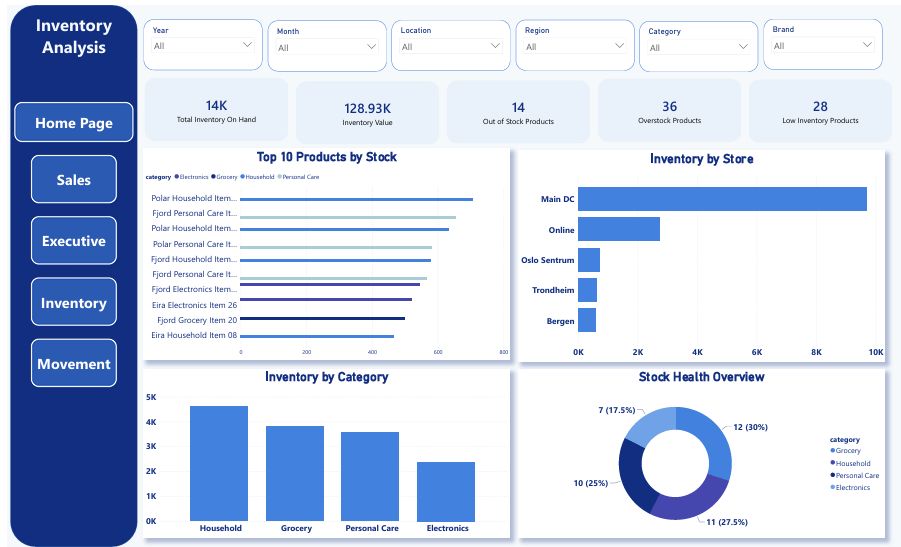

This screenshot's page, from the dashboard's own definition file:
{"tool":"powerbi","page":{"name":"Inventory Analysis ","canvas":[2150,1300],"ordinal":3},"visuals":[{"type":"shape","box":[7.5,0,305,1300],"z":0},{"type":"group","id":"g1","title":"Group 1","box":[327.5,32.5,1772.5,127],"z":1000},{"type":"group","id":"g2","title":"Group 2","box":[314,158,1828,194],"z":2000},{"type":"clusteredBarChart","title":"Top 10 Products by Stock","fields":{"Category":["product_master.product_name"],"Series":["product_master.category"],"Y":["Measures_Table.Total Inventory On Hand"]},"box":[327.5,345,880,507.5],"z":3000},{"type":"clusteredColumnChart","title":"Inventory by Category","fields":{"Category":["product_master.category"],"Y":["Measures_Table.Total Inventory On Hand"]},"box":[327.5,875,880,405],"z":4000},{"type":"slicer","fields":{"Values":["location_master.region"]},"box":[1220,34.6,285,122],"z":5000,"group":"g1"},{"type":"clusteredBarChart","title":"Inventory by Store","fields":{"Category":["location_master.location_name"],"Y":["Measures_Table.Total Inventory On Hand"]},"box":[1227.5,350,897.5,507.5],"z":5000},{"type":"slicer","fields":{"Values":["location_master.location_type"]},"box":[922.5,35.4,285,122],"z":6000,"group":"g1"},{"type":"donutChart","title":"Stock Health Overview","fields":{"Category":["product_master.category"],"Y":["Count(product_master.sku)"]},"box":[1227.5,875,897.5,405],"z":6000},{"type":"slicer","fields":{"Values":["product_master.category"]},"box":[1517.5,37.5,285,122],"z":7000,"group":"g1"},{"type":"actionButton","box":[7.5,222.5,305,115],"z":7000,"group":"g3"},{"type":"slicer","fields":{"Values":["product_master.brand"]},"box":[1815,32.5,285,122],"z":8000,"group":"g1"},{"type":"actionButton","box":[47.5,349.4,225,135],"z":8000,"group":"g3"},{"type":"slicer","fields":{"Values":["dim_date.Date.Variation.Date Hierarchy.Year"]},"box":[327.5,33.3,285,122.5],"z":9000,"group":"g1"},{"type":"actionButton","box":[47.5,643.1,225,135],"z":9000,"group":"g3"},{"type":"slicer","fields":{"Values":["dim_date.Date.Variation.Date Hierarchy.Month"]},"box":[625,36.2,285,122.5],"z":10000,"group":"g1"},{"type":"actionButton","box":[47.5,790,225,135],"z":10000,"group":"g3"},{"type":"cardVisual","fields":{"Data":["Measures_Table.Total Inventory On Hand"]},"box":[314,158,377.5,185],"z":11000,"group":"g2"},{"type":"actionButton","box":[47.5,496.3,225,135],"z":11000,"group":"g3"},{"type":"group","id":"g3","title":"Group 3","box":[7.5,222.5,305,702.5],"z":11001},{"type":"cardVisual","fields":{"Data":["Measures_Table.Inventory Value"]},"box":[676.9,166,377,185],"z":12000,"group":"g2"},{"type":"cardVisual","fields":{"Data":["Measures_Table.Out of Stock Products"]},"box":[1039.2,164,377,185],"z":13000,"group":"g2"},{"type":"cardVisual","fields":{"Data":["Measures_Table.Overstock Products"]},"box":[1401.6,160,377,185],"z":14000,"group":"g2"},{"type":"cardVisual","fields":{"Data":["Measures_Table.Low Inventory Products"]},"box":[1764,162,377,185],"z":15000,"group":"g2"}]}

Visuals, with their boxes in screenshot pixels (x1, y1, x2, y2), scaled from the page's 2150x1300 canvas onto the 901x547 screenshot:
shape: box=[3, 0, 131, 546]
"Group 1" group: box=[137, 14, 880, 67]
"Group 2" group: box=[132, 66, 898, 148]
"Top 10 Products by Stock" clusteredBarChart: box=[137, 145, 506, 359]
"Inventory by Category" clusteredColumnChart: box=[137, 368, 506, 539]
slicer - location_master.region: box=[511, 15, 631, 66]
"Inventory by Store" clusteredBarChart: box=[514, 147, 891, 361]
slicer - location_master.location_type: box=[387, 15, 506, 66]
"Stock Health Overview" donutChart: box=[514, 368, 891, 539]
slicer - product_master.category: box=[636, 16, 755, 67]
actionButton: box=[3, 94, 131, 142]
slicer - product_master.brand: box=[761, 14, 880, 65]
actionButton: box=[20, 147, 114, 204]
slicer - dim_date.Date.Variation.Date Hierarchy.Year: box=[137, 14, 257, 66]
actionButton: box=[20, 271, 114, 327]
slicer - dim_date.Date.Variation.Date Hierarchy.Month: box=[262, 15, 381, 67]
actionButton: box=[20, 332, 114, 389]
cardVisual - Measures_Table.Total Inventory On Hand: box=[132, 66, 290, 144]
actionButton: box=[20, 209, 114, 266]
"Group 3" group: box=[3, 94, 131, 389]
cardVisual - Measures_Table.Inventory Value: box=[284, 70, 442, 148]
cardVisual - Measures_Table.Out of Stock Products: box=[435, 69, 593, 147]
cardVisual - Measures_Table.Overstock Products: box=[587, 67, 745, 145]
cardVisual - Measures_Table.Low Inventory Products: box=[739, 68, 897, 146]
